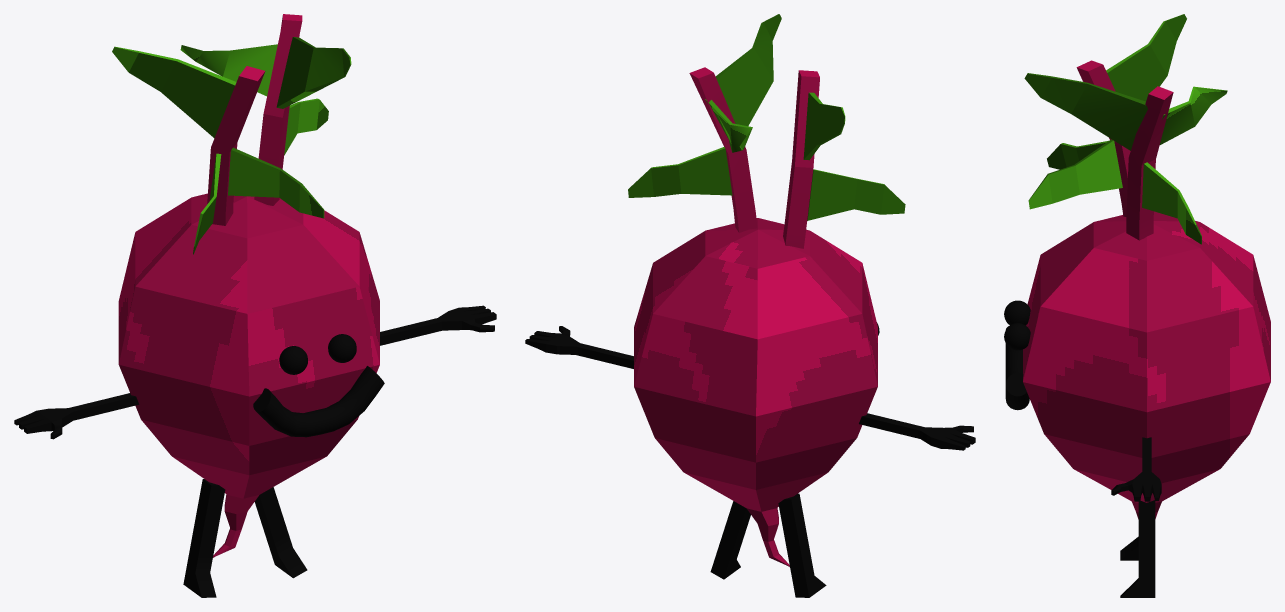
Rendered from CharacterBeetrootEternal.glb.
3 renders of one model, left to right at view 1: azimuth 30°, elevation 25°; view 2: azimuth 150°, elevation 25°; view 3: azimuth 270°, elevation 25°, orthographic. The views are drawn at different scales.
Parts seen in each view (by area): view 1: Mesh_0, Mesh_7, Mesh_4, Mesh_2, Mesh_1, Mesh_3, Mesh_5, Mesh_6; view 2: Mesh_0, Mesh_4, Mesh_2, Mesh_1, Mesh_3; view 3: Mesh_0, Mesh_3, Mesh_1, Mesh_7, Mesh_6, Mesh_5.
Boxes of the visible parts, x1=… form: Mesh_0: x1=112, y1=14, x2=379, y2=557; Mesh_7: x1=253, y1=366, x2=384, y2=437; Mesh_4: x1=183, y1=479, x2=225, y2=597; Mesh_2: x1=14, y1=393, x2=139, y2=439; Mesh_1: x1=380, y1=305, x2=496, y2=345; Mesh_3: x1=254, y1=487, x2=307, y2=578; Mesh_5: x1=279, y1=346, x2=307, y2=374; Mesh_6: x1=328, y1=334, x2=356, y2=362; Mesh_0: x1=628, y1=14, x2=905, y2=566; Mesh_4: x1=778, y1=493, x2=826, y2=597; Mesh_2: x1=859, y1=413, x2=975, y2=450; Mesh_1: x1=525, y1=326, x2=633, y2=368; Mesh_3: x1=710, y1=501, x2=750, y2=579; Mesh_0: x1=1023, y1=14, x2=1270, y2=519; Mesh_3: x1=1120, y1=500, x2=1155, y2=597; Mesh_1: x1=1111, y1=437, x2=1161, y2=501; Mesh_7: x1=1005, y1=326, x2=1029, y2=410; Mesh_6: x1=1004, y1=323, x2=1030, y2=350; Mesh_5: x1=1004, y1=300, x2=1030, y2=325.
Bounding box in the file's own units: 1088 × 1228 × 564.
2 materials, 1 textured.
